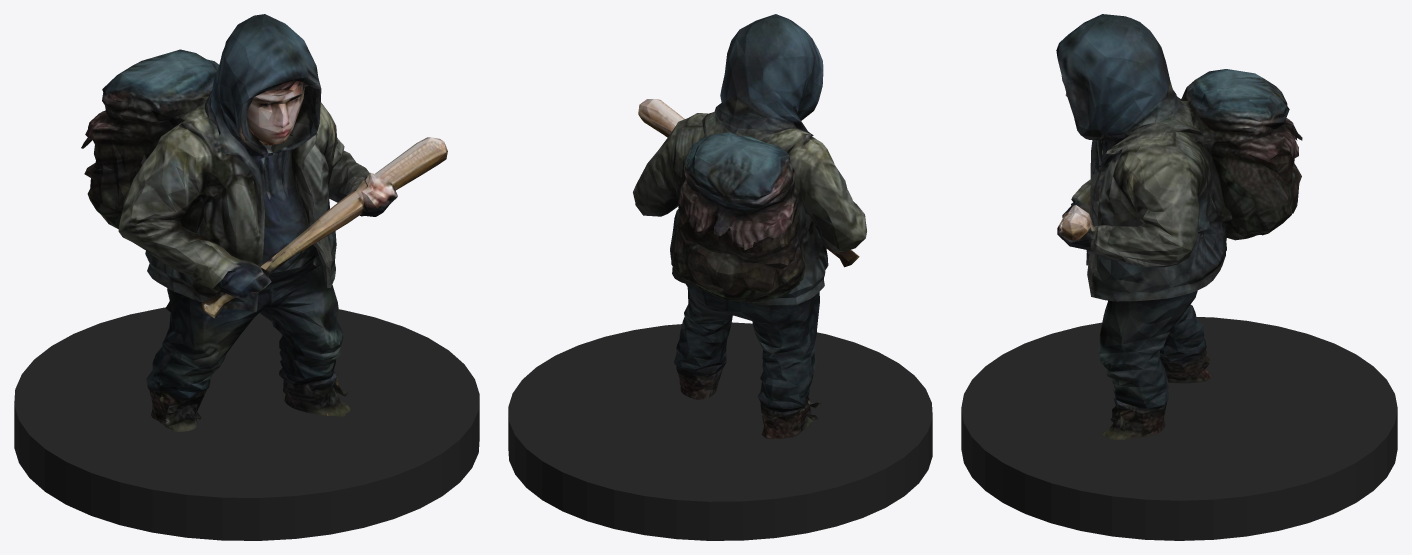
File: john-price.glb
3 renders of one model, left to right at view 1: azimuth 30°, elevation 25°; view 2: azimuth 150°, elevation 25°; view 3: azimuth 270°, elevation 25°, orthographic. The views are drawn at different scales.
Visible parts, largest first — view 1: base, figure; view 2: base, figure; view 3: base, figure.
Part boxes in pixels (<box>): base: <box>14,307,479,540</box>; figure: <box>81,14,447,431</box>; base: <box>508,322,932,540</box>; figure: <box>633,14,866,439</box>; base: <box>961,317,1397,540</box>; figure: <box>1056,14,1302,440</box>.
Size of the model in its own units: 1.18 by 1.27 by 1.18.
Materials: 2 (1 with a texture image).
